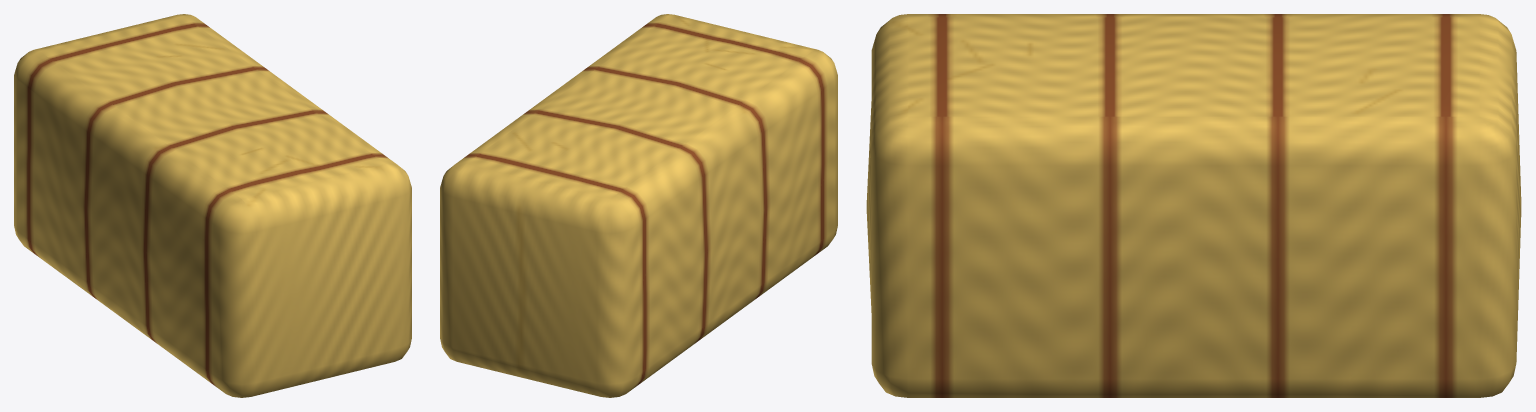
Rendered from HayBale_2x1.fbx.
The picture shows the model from 3 angles, left to right: view 1: azimuth 30°, elevation 25°; view 2: azimuth 150°, elevation 25°; view 3: azimuth 270°, elevation 25°; orthographic projection. The views are drawn at different scales.
Visible parts, largest first — view 1: HayBale_2x1; view 2: HayBale_2x1; view 3: HayBale_2x1.
Part boxes in pixels (bbox=[...]): HayBale_2x1: bbox=[14, 14, 411, 397]; HayBale_2x1: bbox=[440, 14, 837, 397]; HayBale_2x1: bbox=[866, 14, 1521, 397].
Bounding box in the file's own units: 0.95 × 0.9071 × 1.95.
Materials: 1 (1 with a texture image).
